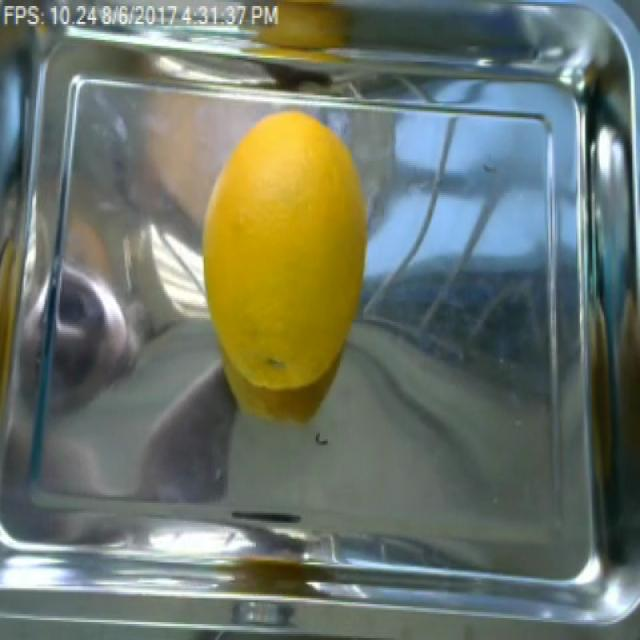Fruit: (200, 96, 380, 302)
